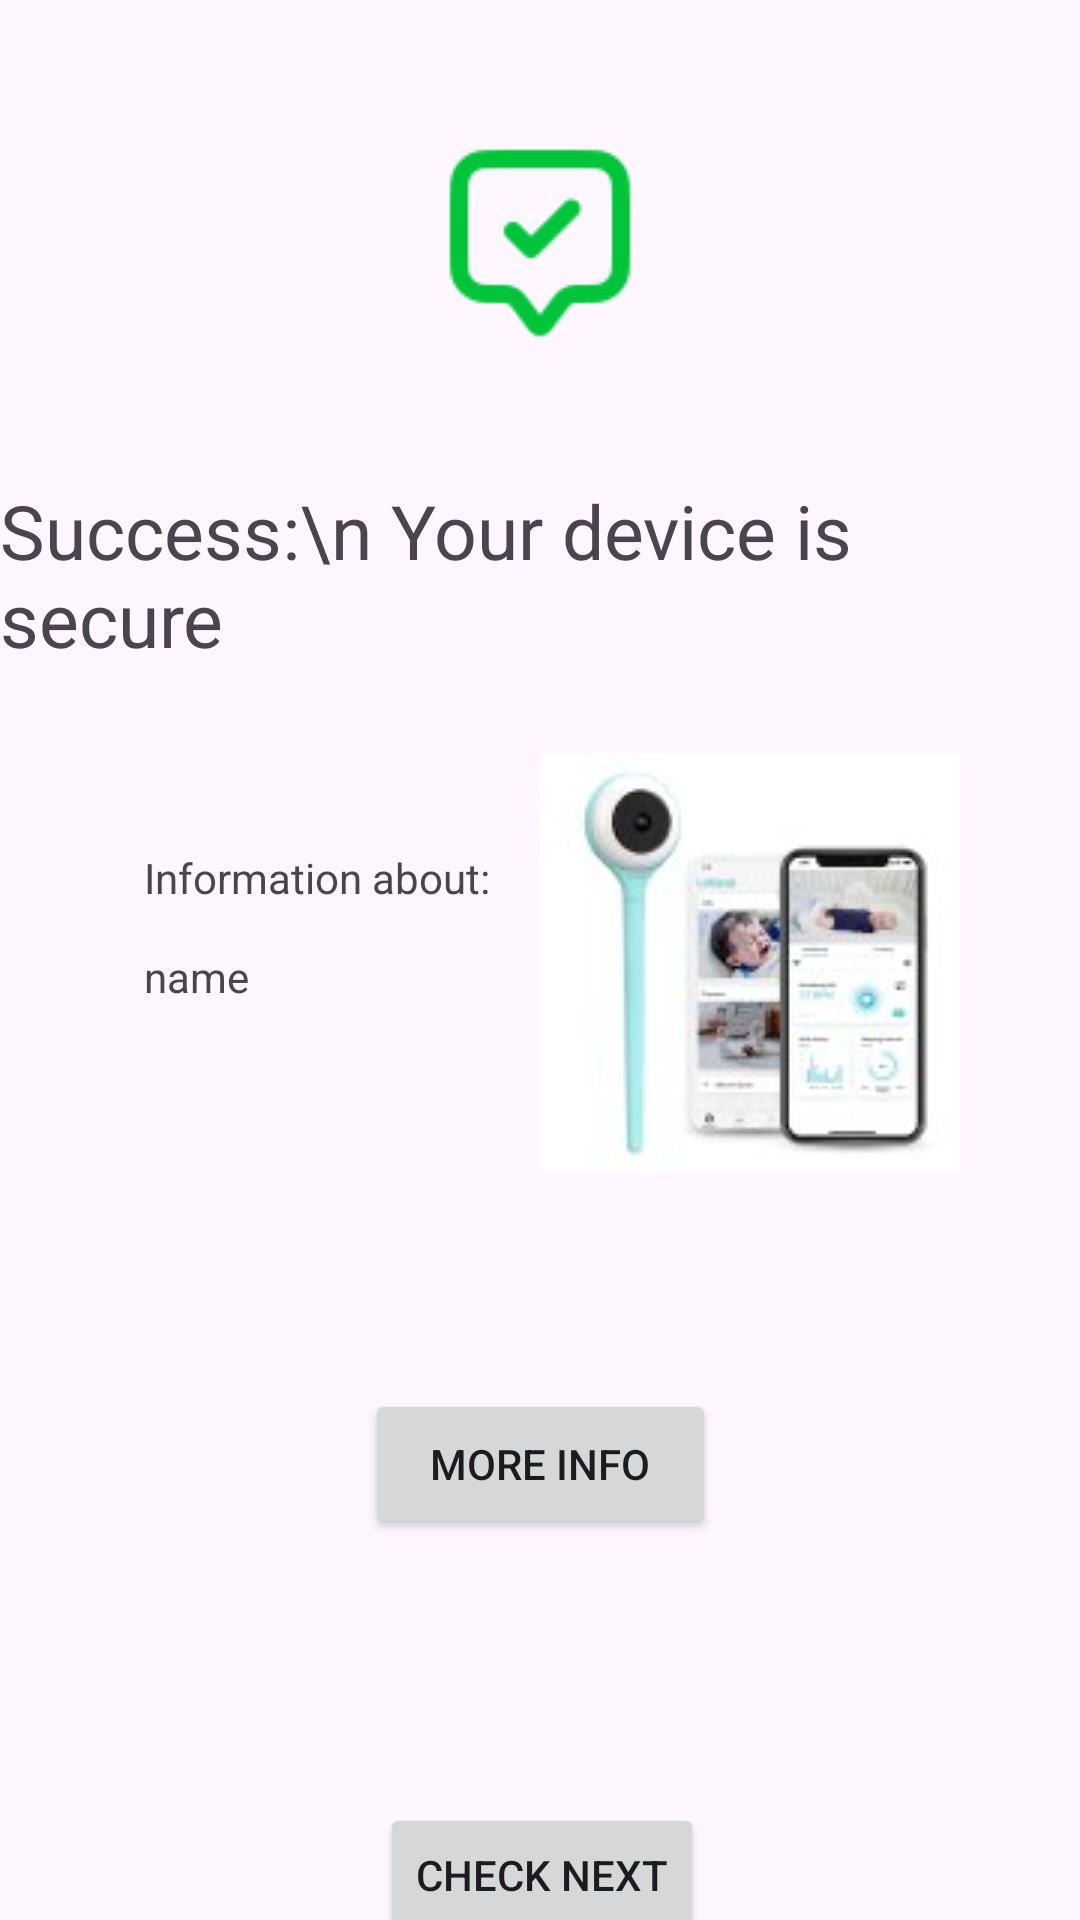

Icons on this 1080w x 1920h Android screen, each with its box as bbox=[x1, y1, x2, y2]:
annotation check: bbox=[449, 149, 631, 337]
